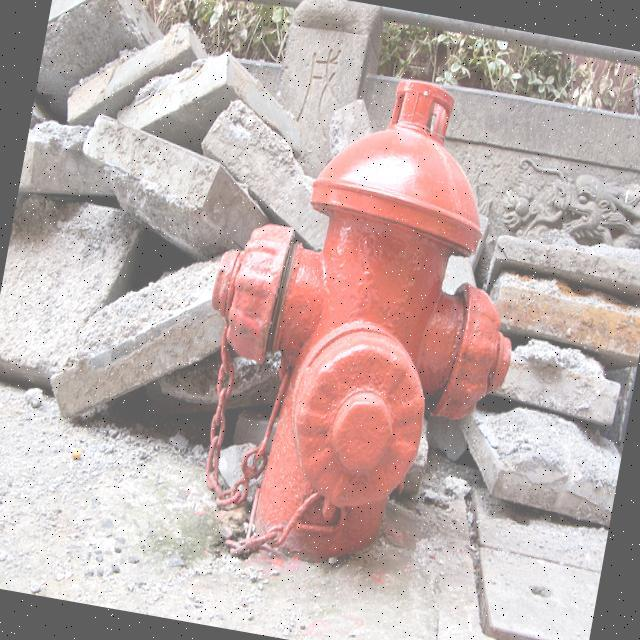fire_hydrant: (156, 34, 566, 604)
